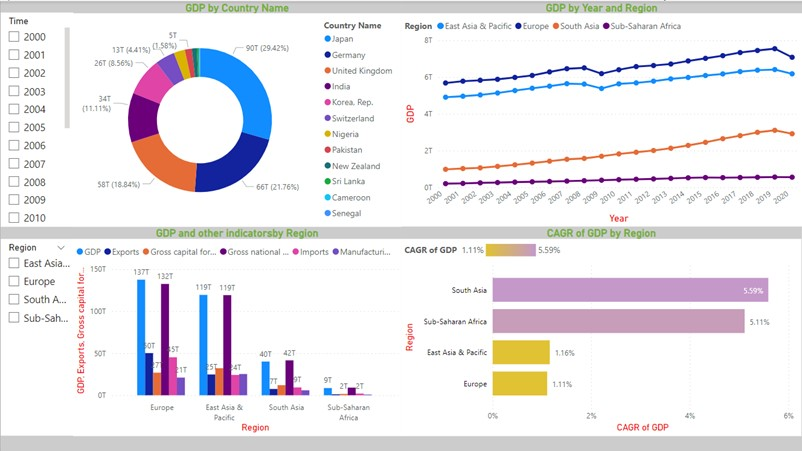

This screenshot's page, from the dashboard's own definition file:
{"tool":"powerbi","page":{"name":"Page 1","canvas":[1280,720],"ordinal":0},"visuals":[{"type":"lineChart","fields":{"Y":["Sum(WDI4.GDP)"],"Category":["WDI4.Time"],"Series":["WDI4.Region"]},"box":[640,0,640,359.8],"z":0},{"type":"donutChart","fields":{"Category":["WDI4.Country Name"],"Y":["Sum(WDI4.GDP)"]},"box":[115.8,0,524.6,360.6],"z":1000},{"type":"clusteredBarChart","fields":{"Category":["WDI4.Region"],"Y":["WDI4.3. Calculate CAGR:  (End Value/Start Value)^(1/Periods) -1CAGR"]},"box":[640.4,360.6,639.2,334.1],"z":2000},{"type":"clusteredColumnChart","title":"GDP and other indicatorsby Region","fields":{"Y":["Sum(WDI4.GDP)","Sum(WDI4.Exports of goods and services)","Sum(WDI4.Gross capital formation)","Sum(WDI4.Gross national expenditure)","Sum(WDI4.Imports of goods and services)","Sum(WDI4.Manufacturing, value added)"],"Category":["WDI4.Region"]},"box":[115.8,360.6,524.6,334.1],"z":3000},{"type":"slicer","fields":{"Values":["WDI4.Time"]},"box":[0,18.1,137.5,342.5],"z":3001},{"type":"slicer","fields":{"Values":["WDI4.Region"]},"box":[0,379.9,115.8,314.8],"z":3002}]}

Visuals, with their boxes in screenshot pixels (x1, y1, x2, y2), scaled from the page's 1280x720 canvas onto the 802x451 screenshot:
lineChart - Sum(WDI4.GDP) x WDI4.Time: crop(401, 0, 801, 225)
donutChart - WDI4.Country Name x Sum(WDI4.GDP): crop(73, 0, 401, 226)
clusteredBarChart - WDI4.Region x WDI4.3. Calculate CAGR:  (End Value/Start Value)^(1/Periods) -1CAGR: crop(401, 226, 801, 435)
"GDP and other indicatorsby Region" clusteredColumnChart: crop(73, 226, 401, 435)
slicer - WDI4.Time: crop(0, 11, 86, 226)
slicer - WDI4.Region: crop(0, 238, 73, 435)
